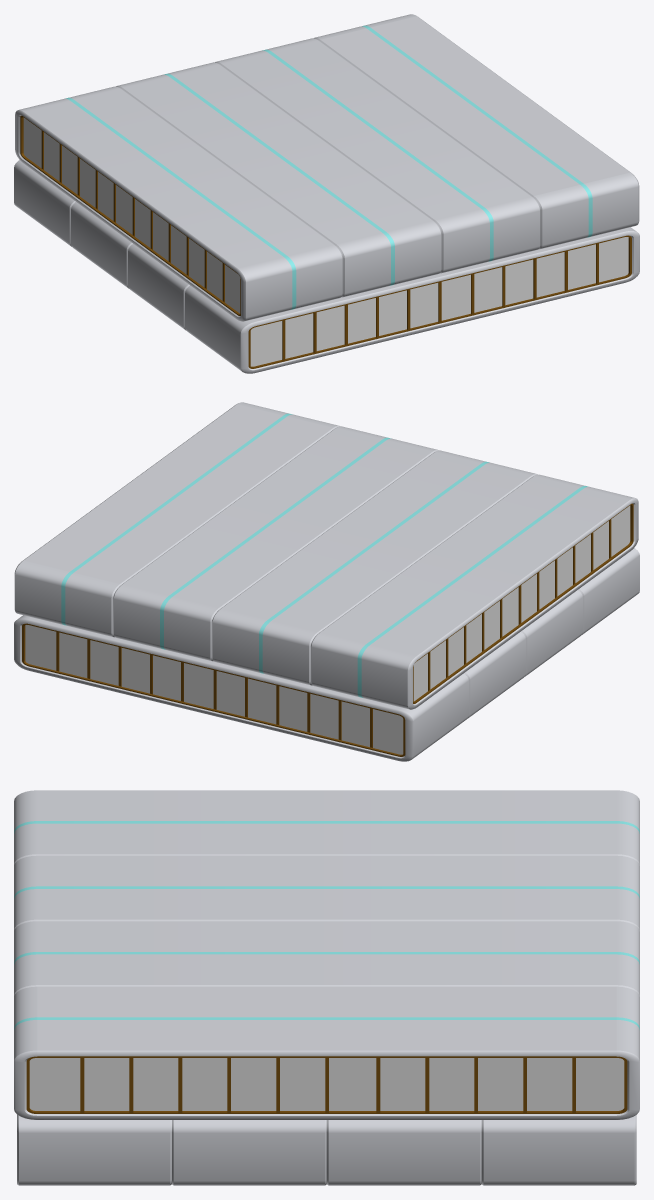
File: SM_B_Abraham_mid.fbx
The picture shows the model from 3 angles, top to bottom: view 1: azimuth 30°, elevation 25°; view 2: azimuth 150°, elevation 25°; view 3: azimuth 270°, elevation 25°; orthographic projection. The views are drawn at different scales.
Visible parts, largest first — view 1: SM_B_Abraham_mid; view 2: SM_B_Abraham_mid; view 3: SM_B_Abraham_mid.
Boxes of the visible parts, x1,y1,x2,y2 form: SM_B_Abraham_mid: (14,14,639,373); SM_B_Abraham_mid: (14,402,639,761); SM_B_Abraham_mid: (14,790,639,1185).
Bounding box in the file's own units: 2003 × 491 × 2003.
